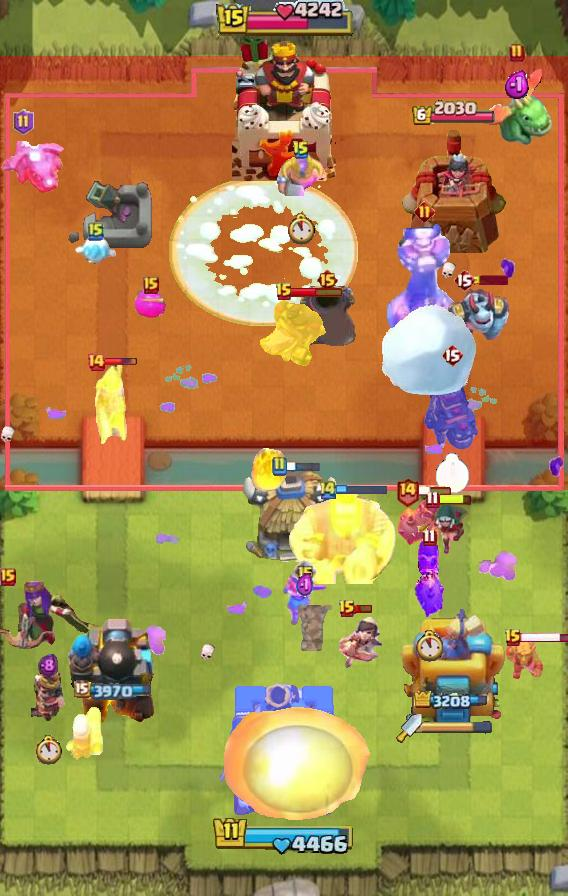archer-evolution: (422, 371, 482, 451)
bar: (401, 601, 505, 731)
barbarian-hut: (0, 579, 122, 649)
bat: (75, 234, 117, 270)
bomb-tower: (93, 359, 131, 457)
bomber-evolution: (31, 673, 65, 723)
clock: (212, 815, 356, 857), (215, 0, 353, 39)
electro-dragon: (385, 220, 463, 348)
electro-spirit: (505, 70, 532, 100), (38, 654, 58, 679), (296, 573, 314, 600)
electro-wizard: (477, 65, 557, 147)
elixir: (435, 454, 470, 495), (414, 630, 445, 662), (286, 213, 316, 245), (34, 735, 62, 765)
elixir-golem-small: (443, 282, 511, 348)
emote: (291, 286, 344, 298), (336, 484, 388, 496), (520, 632, 568, 645), (285, 459, 322, 472), (437, 494, 473, 507), (417, 485, 453, 497), (472, 275, 508, 285), (104, 357, 138, 367), (353, 602, 373, 613)
fisherman: (295, 605, 333, 651)
freeze: (258, 294, 328, 368)
giant-skeleton: (288, 490, 398, 584)
goblin-ball: (396, 494, 450, 550), (412, 538, 446, 620)
goblin-giant: (277, 152, 327, 195)
graveyard: (0, 138, 68, 194)
hog-rider: (281, 573, 329, 627)
king-tower: (219, 678, 349, 826), (232, 39, 336, 181)
king-tower-bar: (422, 721, 492, 735)
miner: (135, 288, 167, 318)
musketeer: (296, 281, 358, 349)
phoenix-big: (170, 177, 359, 327)
prince: (240, 471, 342, 567)
queen-tower: (398, 128, 508, 256)
selected: (412, 100, 497, 127), (414, 691, 494, 713), (74, 680, 154, 700)
skeleton-dragon: (334, 614, 384, 670)
tesla: (417, 498, 469, 558)
text: (396, 476, 421, 507), (293, 560, 317, 584), (317, 268, 340, 292), (14, 109, 35, 135), (453, 268, 475, 292), (441, 343, 463, 367), (414, 201, 435, 223), (318, 479, 338, 501), (86, 352, 106, 372), (292, 140, 310, 160), (275, 282, 293, 302), (338, 599, 356, 619), (504, 628, 522, 648), (509, 43, 525, 63), (88, 221, 104, 241), (271, 456, 287, 476), (143, 276, 159, 294), (0, 568, 16, 586), (424, 491, 439, 510), (422, 528, 437, 547)
tombstone: (63, 704, 105, 762)
tower-bar: (67, 611, 161, 731)
valkyrie: (218, 701, 376, 831), (247, 436, 293, 494)
wall-breaker: (381, 302, 478, 398)
zap: (502, 641, 544, 683)
